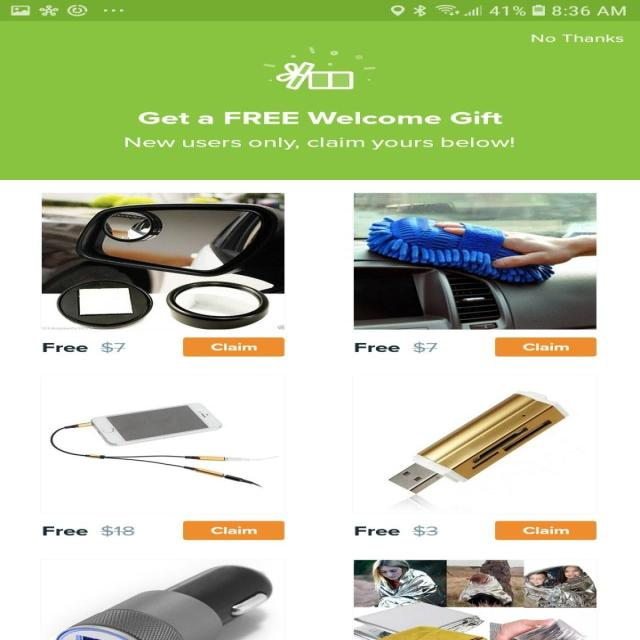Image: (351, 374, 597, 514), (40, 375, 286, 514), (42, 192, 284, 330), (352, 193, 596, 329), (39, 558, 286, 639), (353, 560, 596, 640), (262, 46, 375, 90)
Text: (124, 137, 514, 150), (138, 111, 502, 124), (41, 524, 136, 537), (42, 341, 126, 354), (354, 524, 438, 537), (354, 341, 437, 354), (530, 34, 624, 42)
TextButton: (494, 520, 596, 540), (183, 337, 285, 356), (494, 337, 596, 356), (183, 521, 285, 540)
